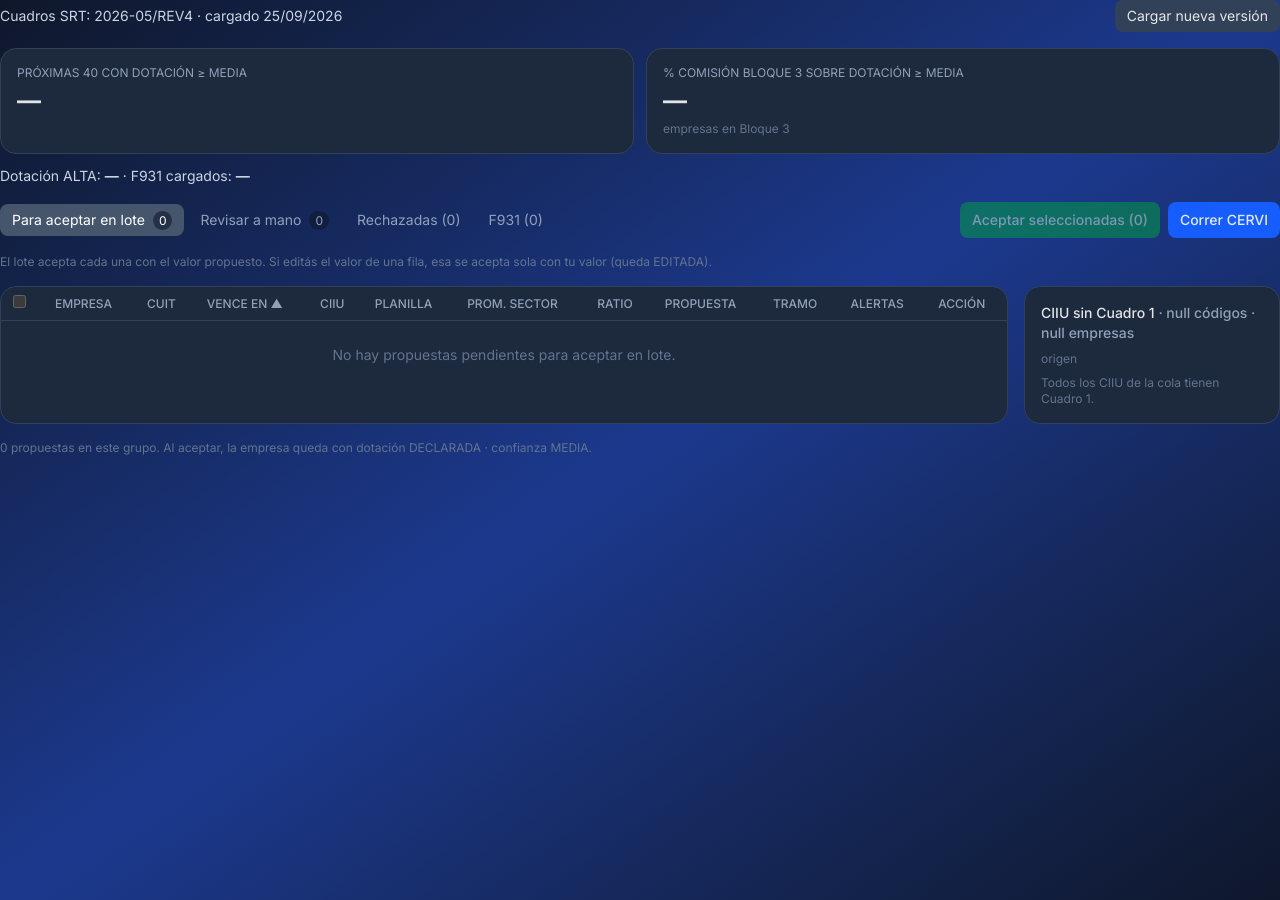
Bandeja CERVI: encabezado de Cuadros SRT › ADMIN: versión con fecha de carga y botón que abre el modal
Expected: the text with test id "cuadros-srt-version" reads "Cuadros SRT: 2026-05/REV4 · cargado 25/09/2026", [0,7,342,24]
Click the button "Cargar nueva versión". click: [1197, 16]
box: [1115,0,1279,32]
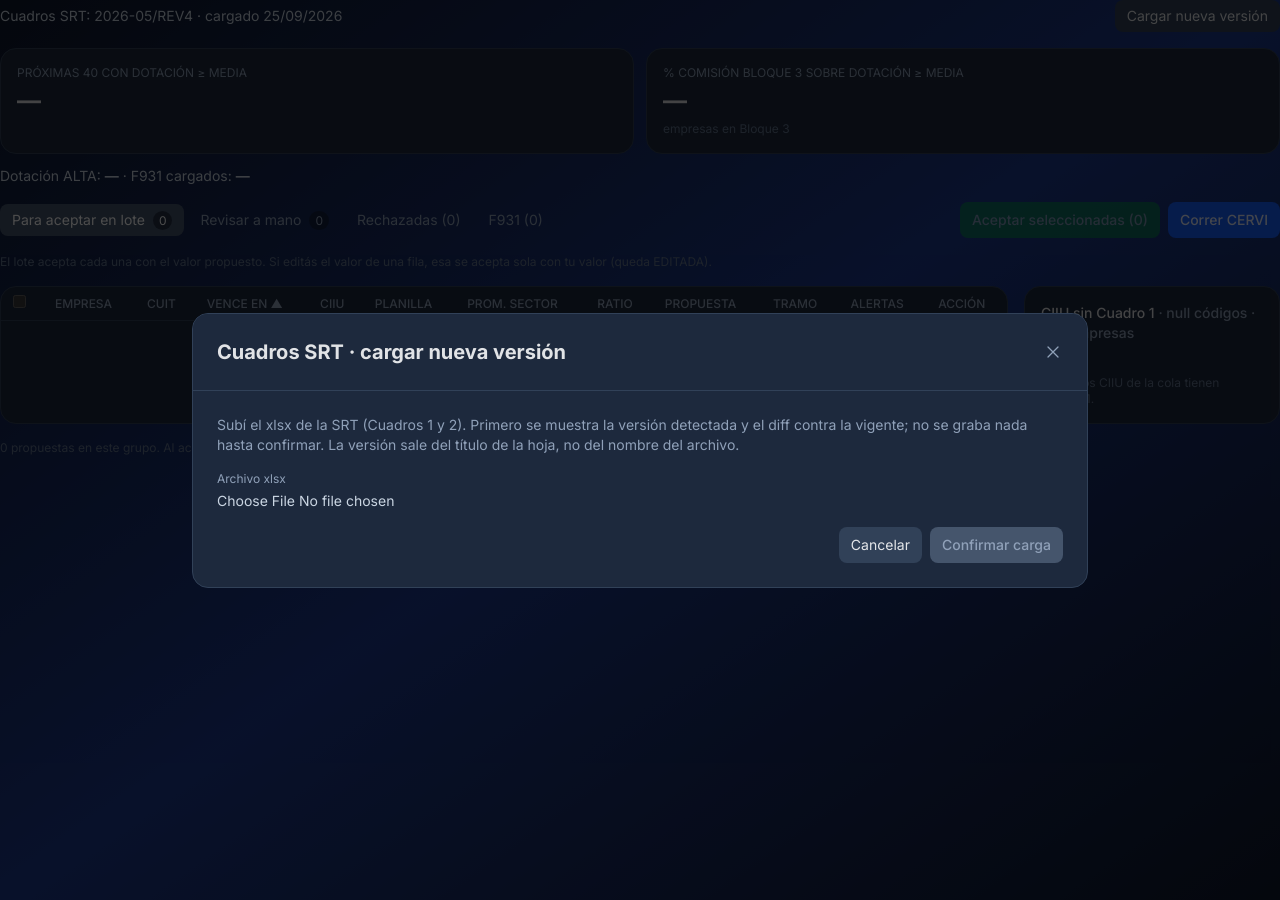
Expected: the file field labelled "Archivo xlsx" is shown, [217,490,518,510]
